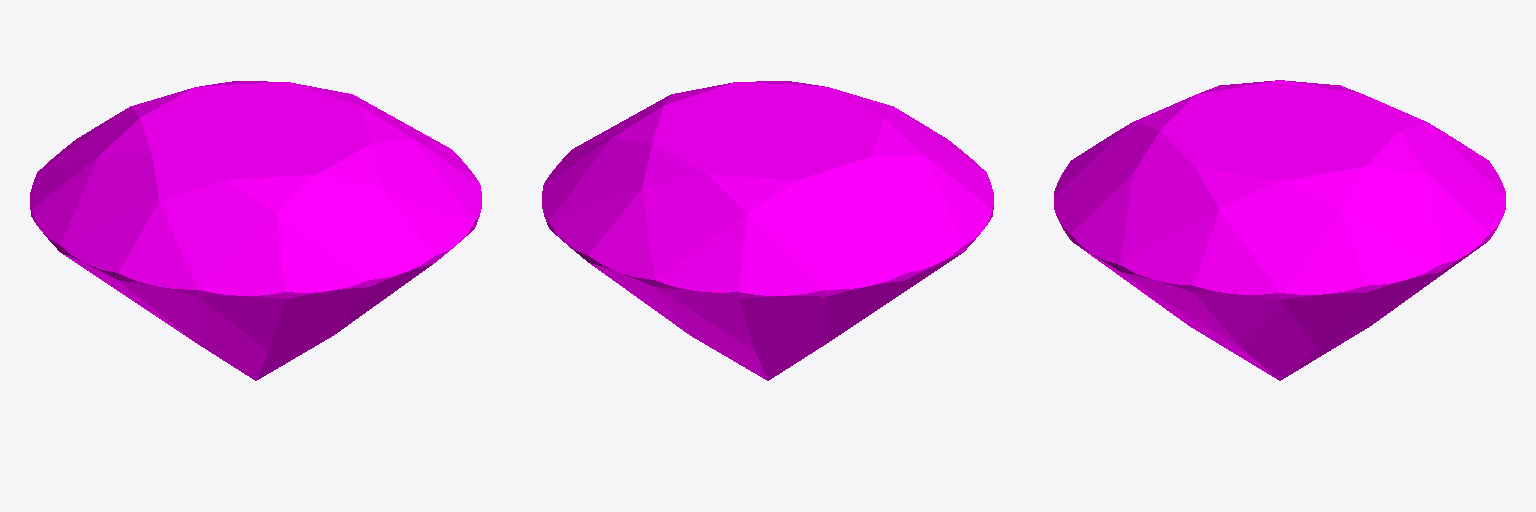
File: gem.obj
3 views of the same model, side by side, from view 1: azimuth 30°, elevation 25°; view 2: azimuth 150°, elevation 25°; view 3: azimuth 270°, elevation 25° (orthographic).
Visible parts, largest first — view 1: diamonds1:Mesh; view 2: diamonds1:Mesh; view 3: diamonds1:Mesh.
Part boxes in pixels (bbox=[...]): diamonds1:Mesh: bbox=[30, 81, 481, 380]; diamonds1:Mesh: bbox=[542, 81, 993, 380]; diamonds1:Mesh: bbox=[1054, 80, 1505, 380].
Bounding box in the file's own units: 2 × 1.22 × 2.